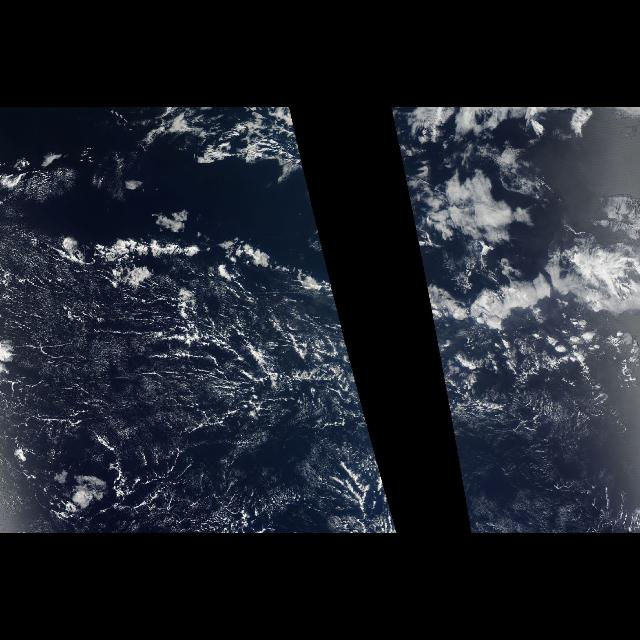Flower: (466, 232, 640, 370)
Sugar: (1, 255, 360, 485), (462, 386, 632, 522)
